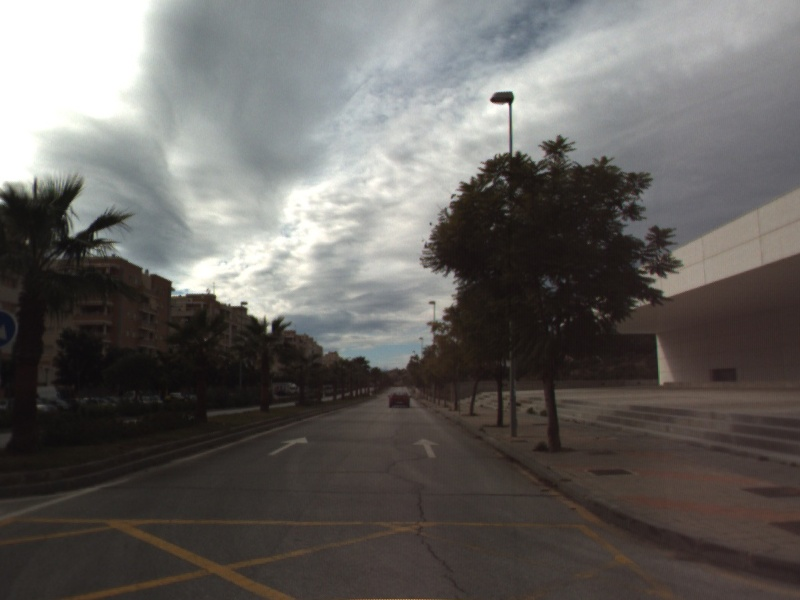STRAIGHT: (266, 435, 310, 458), (411, 436, 441, 459)
